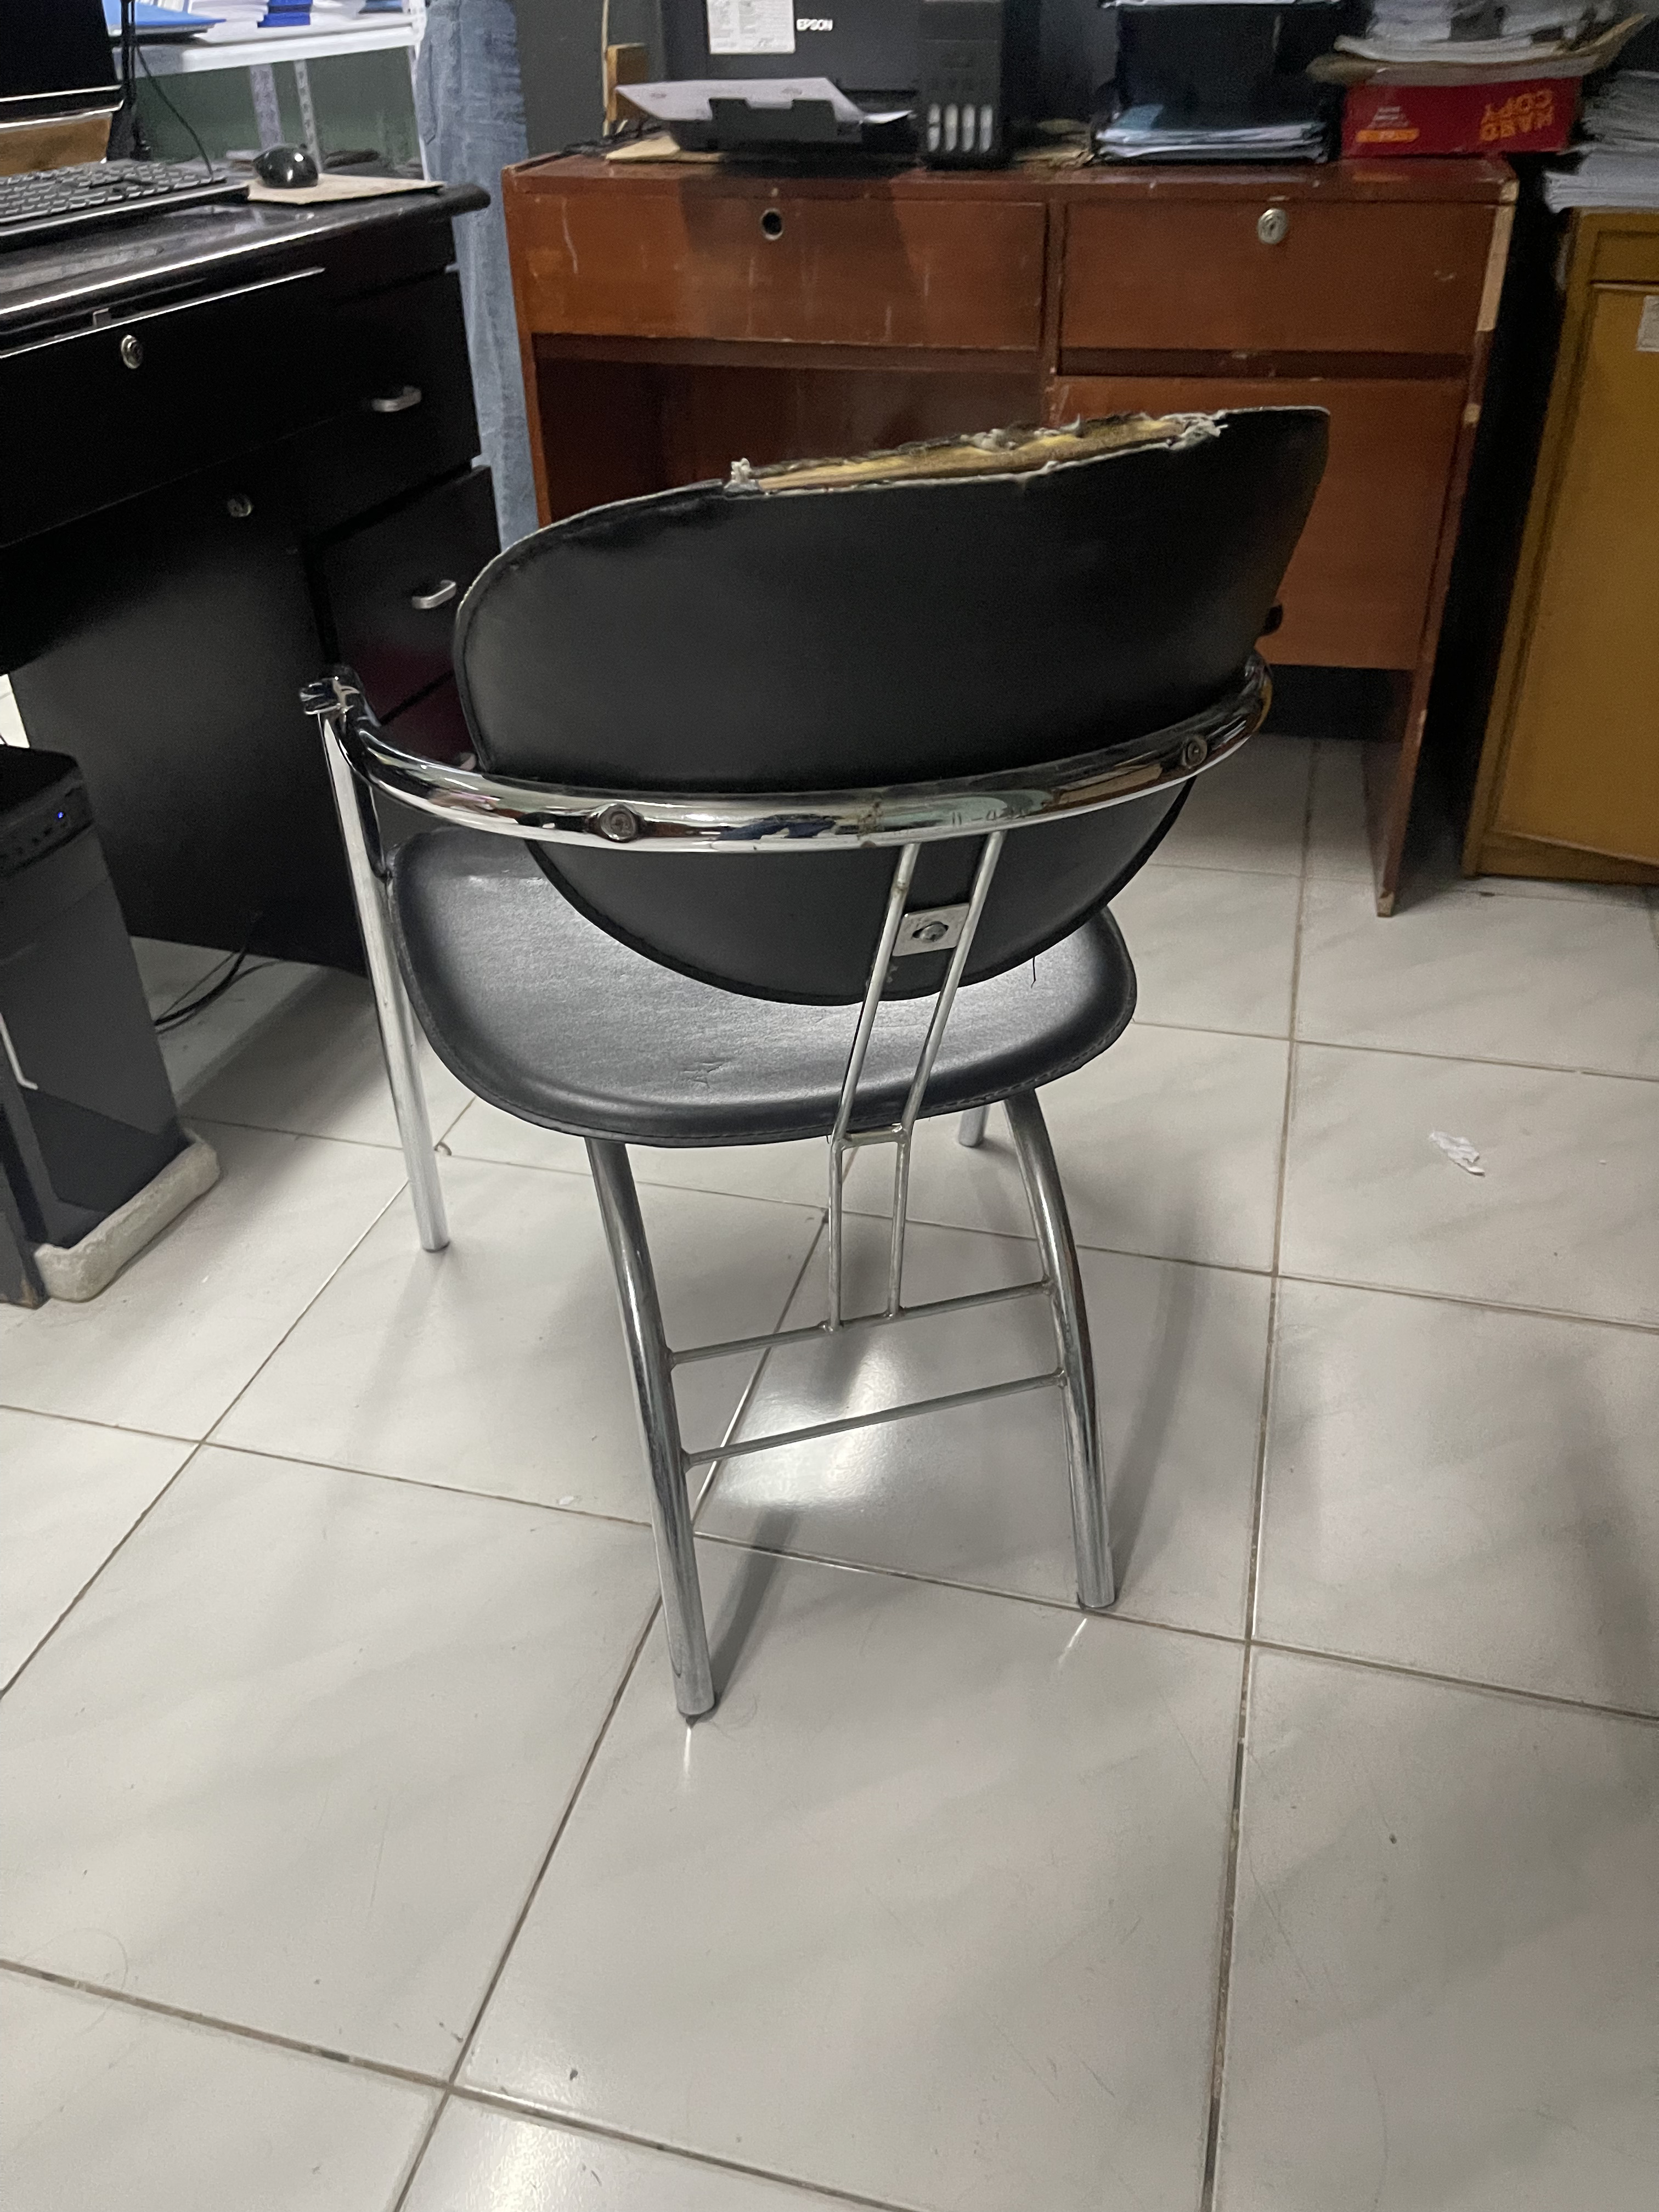chair1: (298, 402, 1344, 1737)
